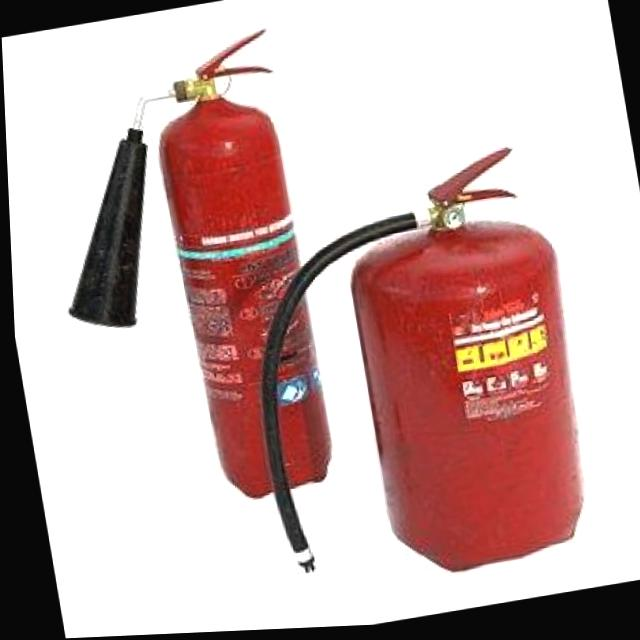FireExtinguisher: (208, 135, 606, 608), (16, 19, 344, 528)
